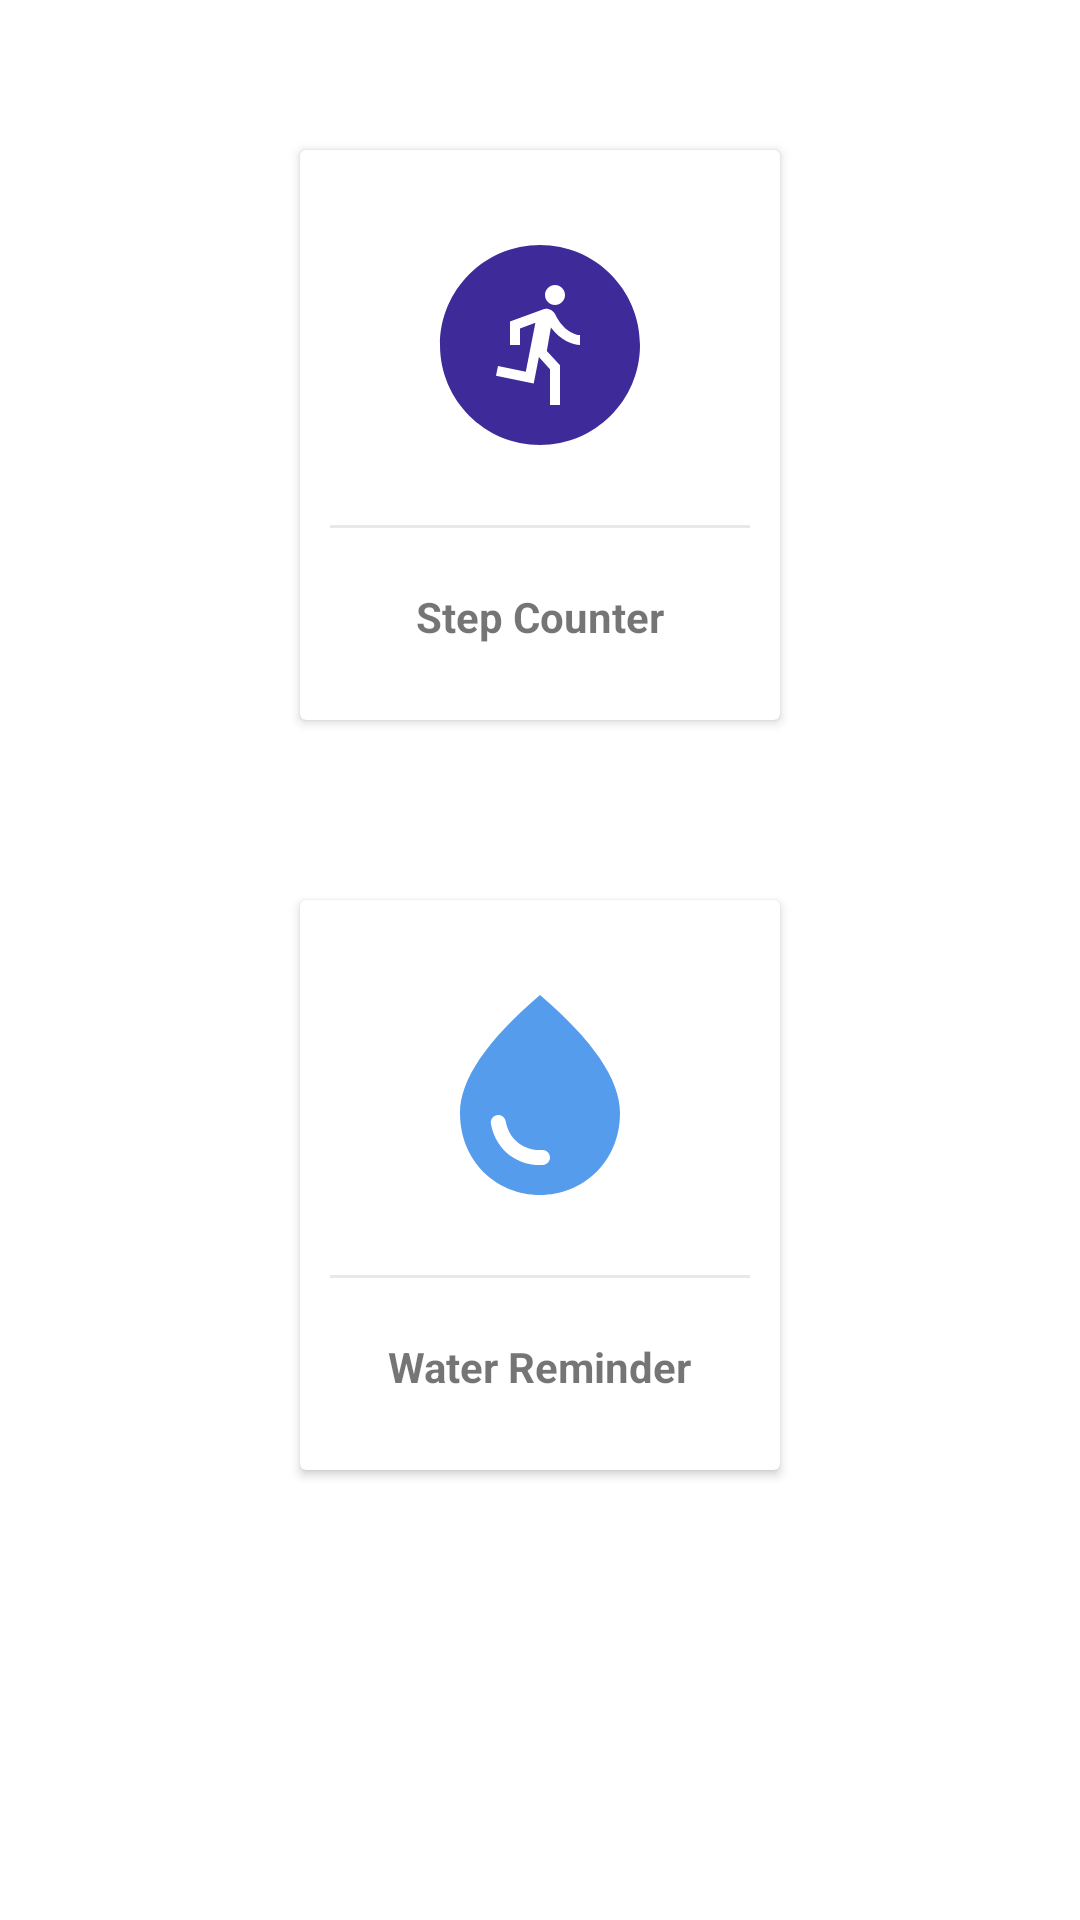

Icons on this 1080w x 1920h Android screen, each with its box as (x1, y1, x2, y2):
run: (440, 245, 640, 445)
